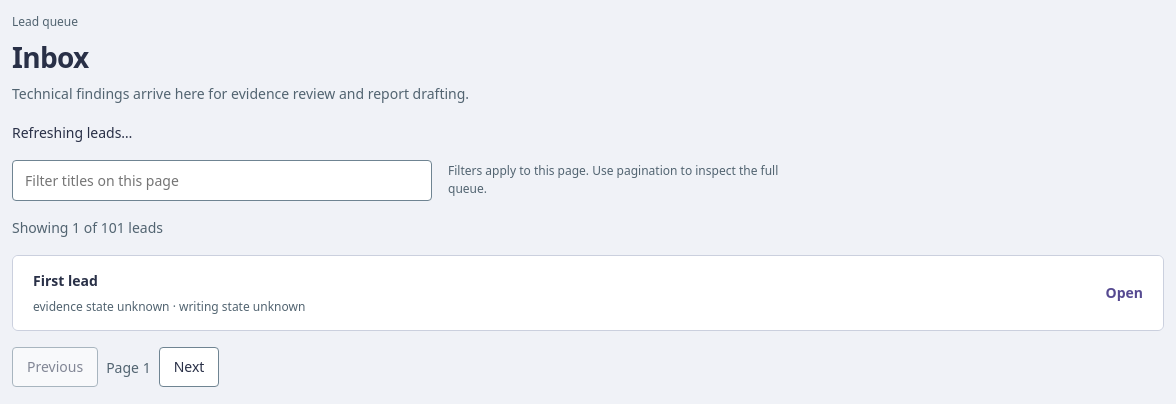
Scenario: Merlin UI contract › refreshes an already-open inbox and keeps its queue paged
Expected: the text "First lead" is shown, [33,271,98,290]
Expected: the text "Showing 1 of 101 leads" is shown, [12,218,163,237]
What coordinates should you click on to do the following:
click the button "Next"
I would click on:
 (189, 367)
Its box is [159,347,219,387].
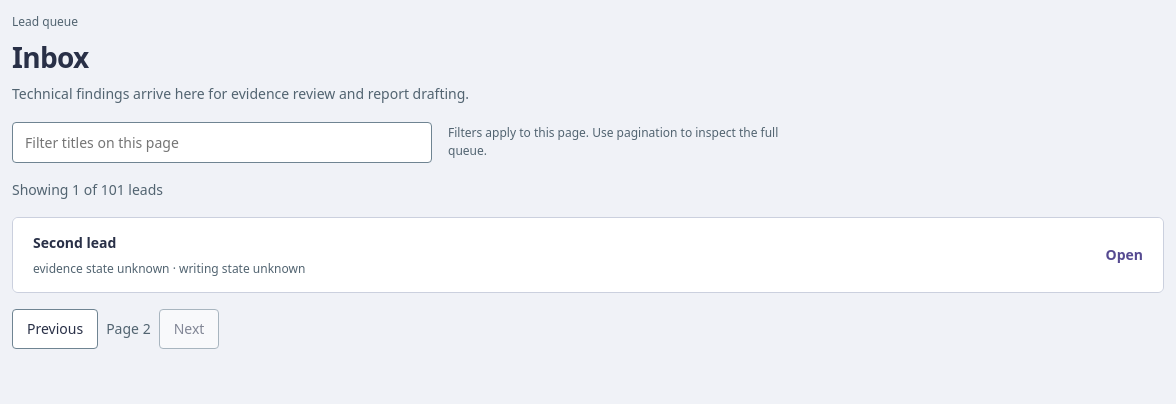
Result: the text "Second lead" is shown at [33,233,116,252]
